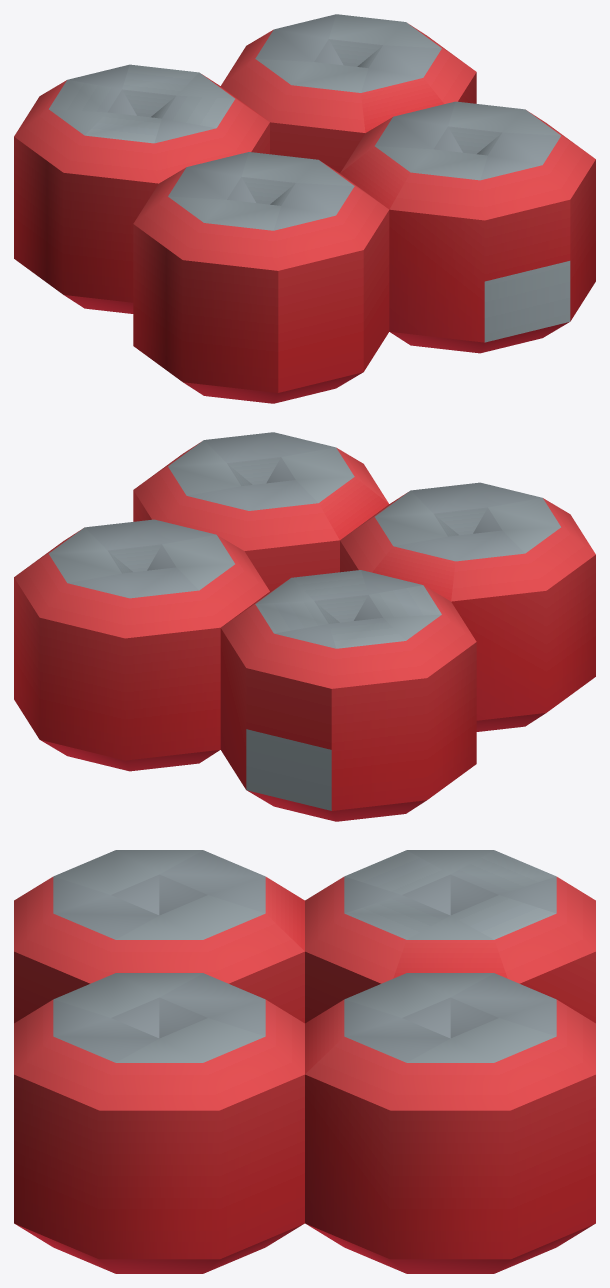
File: kk_containers_d.glb
3 renders of one model, top to bottom at view 1: azimuth 30°, elevation 25°; view 2: azimuth 150°, elevation 25°; view 3: azimuth 270°, elevation 25°, orthographic. The views are drawn at different scales.
Parts seen in each view (by area): view 1: containers_D; view 2: containers_D; view 3: containers_D.
Boxes of the visible parts, x1,y1,x2,y2 form: containers_D: (14,14,595,403); containers_D: (14,432,595,821); containers_D: (14,850,595,1273).
Size of the model in its own units: 6 by 2.4 by 6.
Materials: 1 (1 with a texture image).
